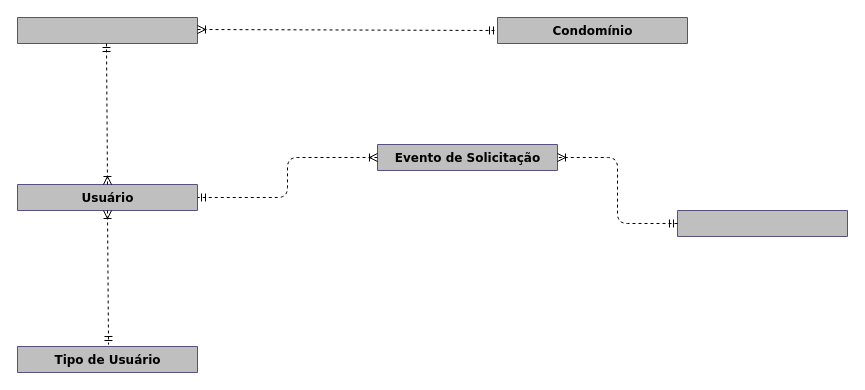
Some shapes in this 865 by 390 pixel diagram are drawn without their labels. The shapes that lost their labels are listed below. From the top down, each one's centre as x and y in pixels, then its label:
point 107,30: Apartamento
point 762,223: Solicitação
